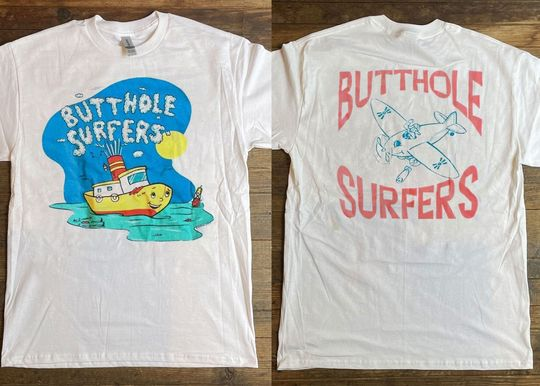design: (40, 74, 216, 243), (334, 67, 485, 221)
